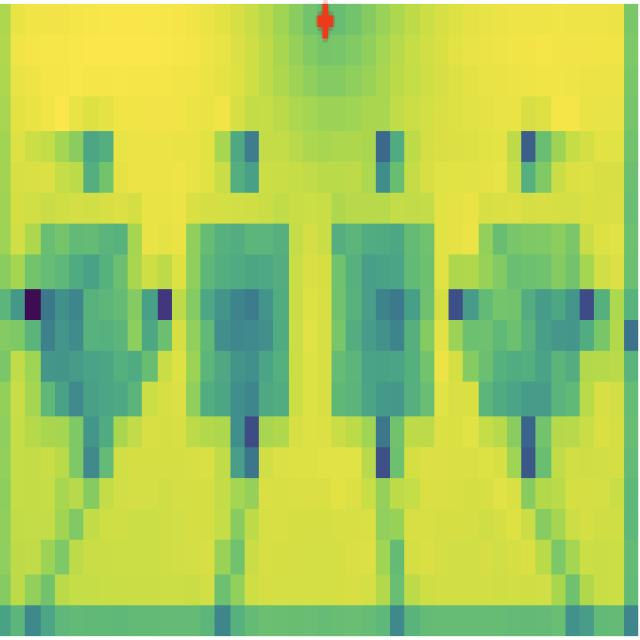Concrete: (469, 208, 583, 435)
Glass: (324, 196, 438, 437)
Metal: (32, 208, 151, 465)
Wood: (177, 197, 302, 447)
